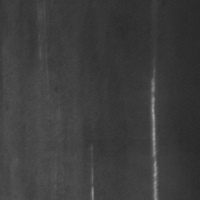scratches: (147, 67, 161, 200)
